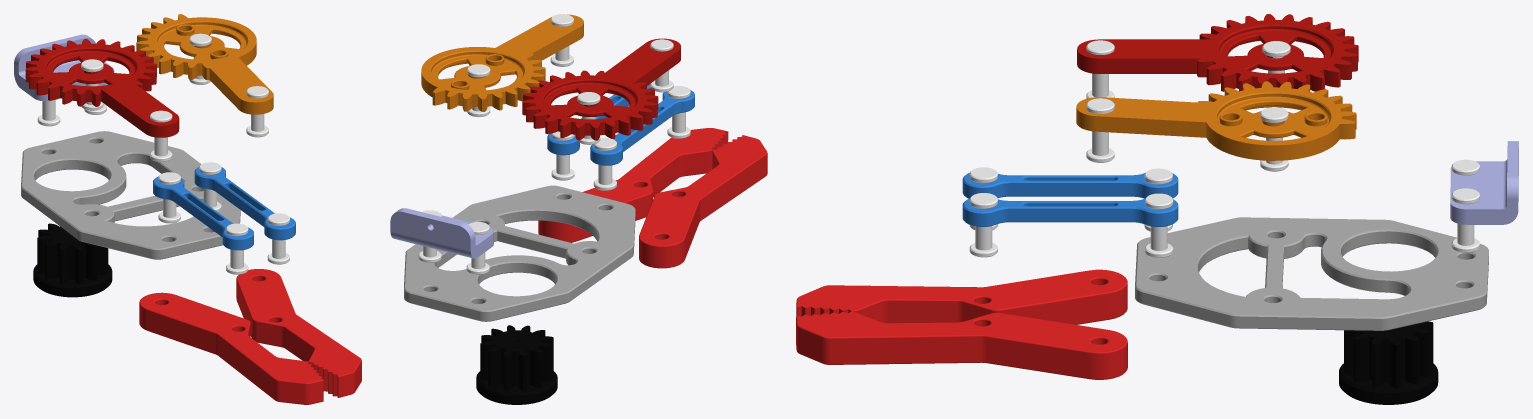
The model's file is Robot_Gripper_ex.glb.
3 views of the same model, side by side, from view 1: azimuth 30°, elevation 25°; view 2: azimuth 150°, elevation 25°; view 3: azimuth 270°, elevation 25° (orthographic). The views are drawn at different scales.
Parts seen in each view (by area): view 1: Base-Plate, Gripper, Gear-link-1, Solid1, Gripper.001, Base-Gear, Link, Link.001, Base-Mounting_bracket, Pin.001, Pin, Pin.004 (+6 smaller); view 2: Base-Plate, Gear-link-1, Solid1, Gripper, Gripper.001, Base-Gear, Base-Mounting_bracket, Link.001, Link, Pin.002, Pin.001, Pin.005 (+6 smaller); view 3: Base-Plate, Gripper.001, Solid1, Gear-link-1, Gripper, Base-Gear, Link, Link.001, Base-Mounting_bracket, Pin.003, Pin, Pin.005 (+3 smaller).
Boxes of the visible parts, bbox=[...] form: Base-Plate: bbox=[21, 131, 240, 259]; Gripper: bbox=[139, 292, 323, 404]; Gear-link-1: bbox=[25, 39, 179, 137]; Solid1: bbox=[136, 14, 273, 114]; Gripper.001: bbox=[236, 269, 361, 397]; Base-Gear: bbox=[33, 223, 112, 297]; Link: bbox=[194, 167, 295, 240]; Link.001: bbox=[153, 176, 253, 250]; Base-Mounting_bracket: bbox=[14, 34, 114, 101]; Pin.001: bbox=[226, 223, 248, 274]; Pin: bbox=[267, 213, 289, 264]; Pin.004: bbox=[150, 110, 172, 161]; Base-Plate: bbox=[404, 185, 635, 321]; Gear-link-1: bbox=[522, 38, 680, 140]; Solid1: bbox=[421, 14, 583, 111]; Gripper: bbox=[639, 135, 767, 268]; Gripper.001: bbox=[538, 128, 728, 242]; Base-Gear: bbox=[476, 325, 557, 404]; Base-Mounting_bracket: bbox=[390, 208, 493, 258]; Link.001: bbox=[590, 90, 694, 165]; Link: bbox=[547, 84, 650, 155]; Pin.002: bbox=[593, 138, 616, 190]; Pin.001: bbox=[667, 86, 690, 138]; Pin.005: bbox=[550, 14, 573, 66]; Base-Plate: bbox=[1135, 217, 1488, 330]; Gripper.001: bbox=[796, 311, 1127, 379]; Solid1: bbox=[1076, 81, 1356, 160]; Gear-link-1: bbox=[1077, 14, 1358, 91]; Gripper: bbox=[796, 269, 1127, 324]; Base-Gear: bbox=[1339, 321, 1438, 404]; Link: bbox=[962, 198, 1178, 226]; Link.001: bbox=[962, 172, 1178, 198]; Base-Mounting_bracket: bbox=[1450, 141, 1518, 224]; Pin.003: bbox=[1145, 193, 1173, 257]; Pin: bbox=[969, 193, 997, 257]; Pin.005: bbox=[1086, 98, 1114, 162].
Bounding box in the file's own units: 0.0549 × 0.0631 × 0.1273.
